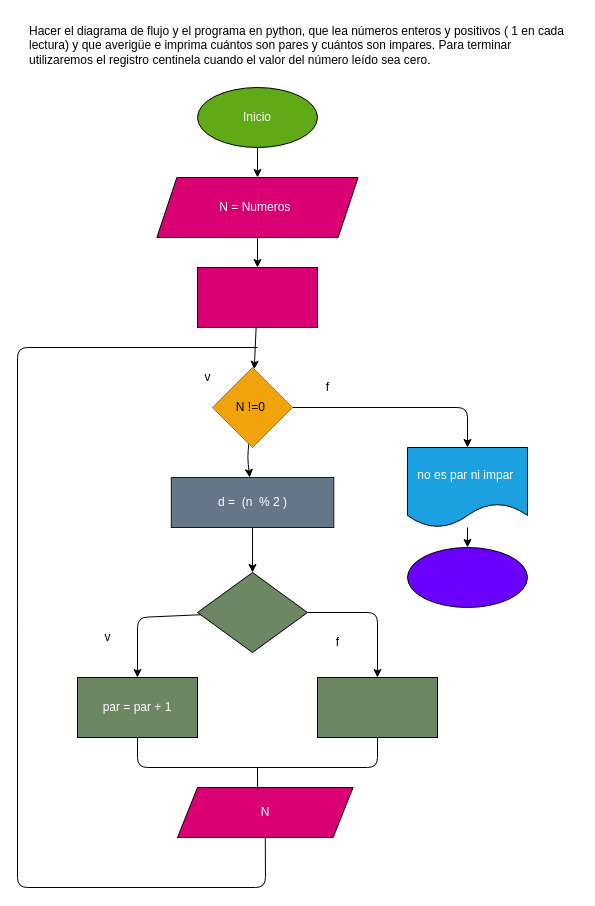
Some shapes in this 595 by 906 pixel diagram are drawn without their labels. The centre of each missing label's shape, as x and y in pixels:
"FIN" belongs at (x=467, y=577).
"impar = impar + 1" belongs at (x=377, y=707).
"PAR = 0 IMPAR = 0" belongs at (x=257, y=297).
"r = 0" belongs at (x=252, y=612).
